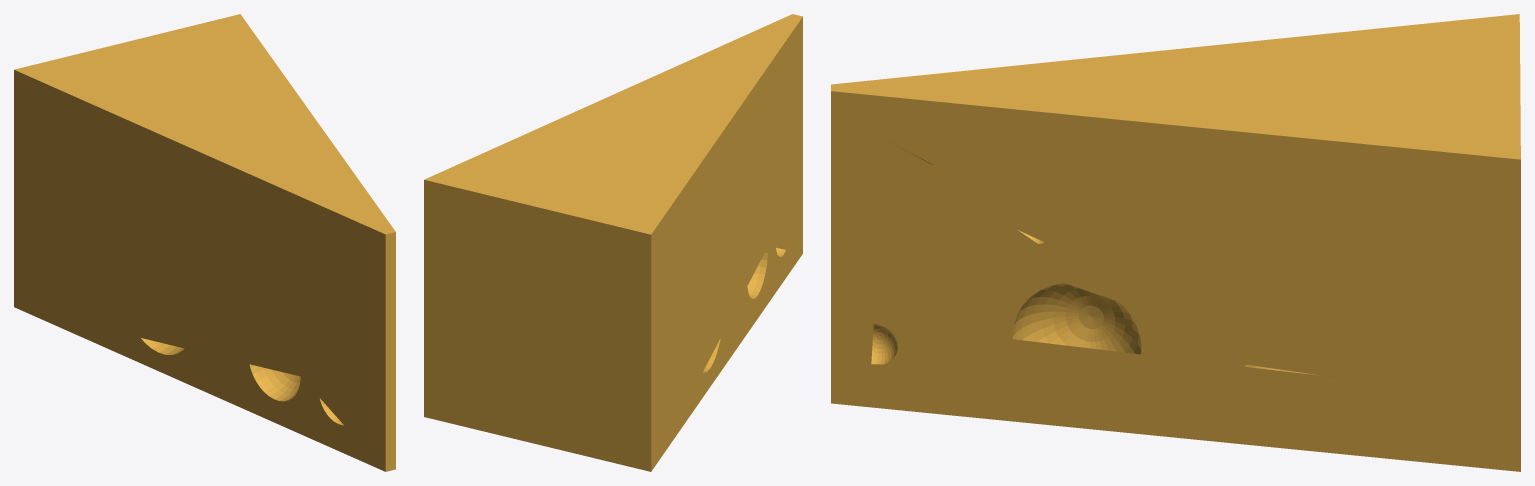
File: Cheese.fbx
3 renders of one model, left to right at view 1: azimuth 30°, elevation 25°; view 2: azimuth 150°, elevation 25°; view 3: azimuth 270°, elevation 25°, orthographic. The views are drawn at different scales.
Parts seen in each view (by area): view 1: Куб; view 2: Куб; view 3: Куб.
Boxes of the visible parts, x1,y1,x2,y2 form: Куб: [14, 14, 395, 471]; Куб: [424, 14, 802, 471]; Куб: [831, 14, 1520, 471].
Size of the model in its own units: 200 by 200 by 400.
